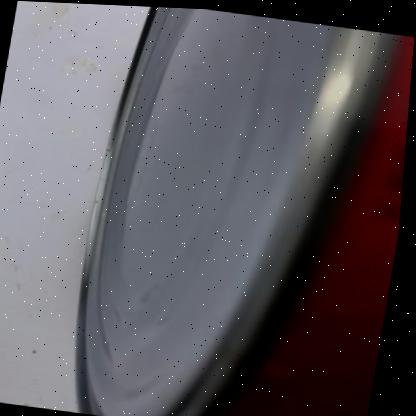Metal: (82, 5, 415, 416)
